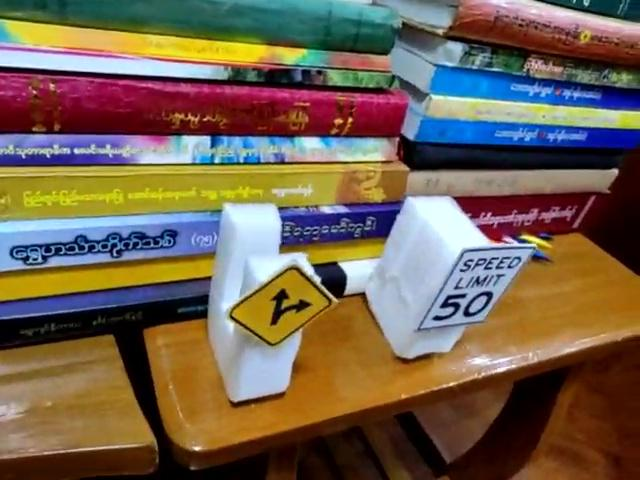Speed Limit 50: (414, 244, 538, 329)
Straight Or Right Sign: (231, 264, 334, 349)
